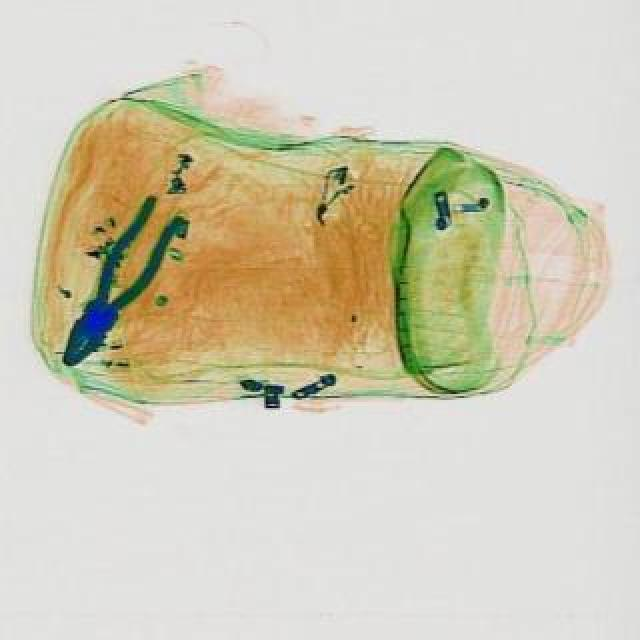wrench: (48, 194, 196, 378)
